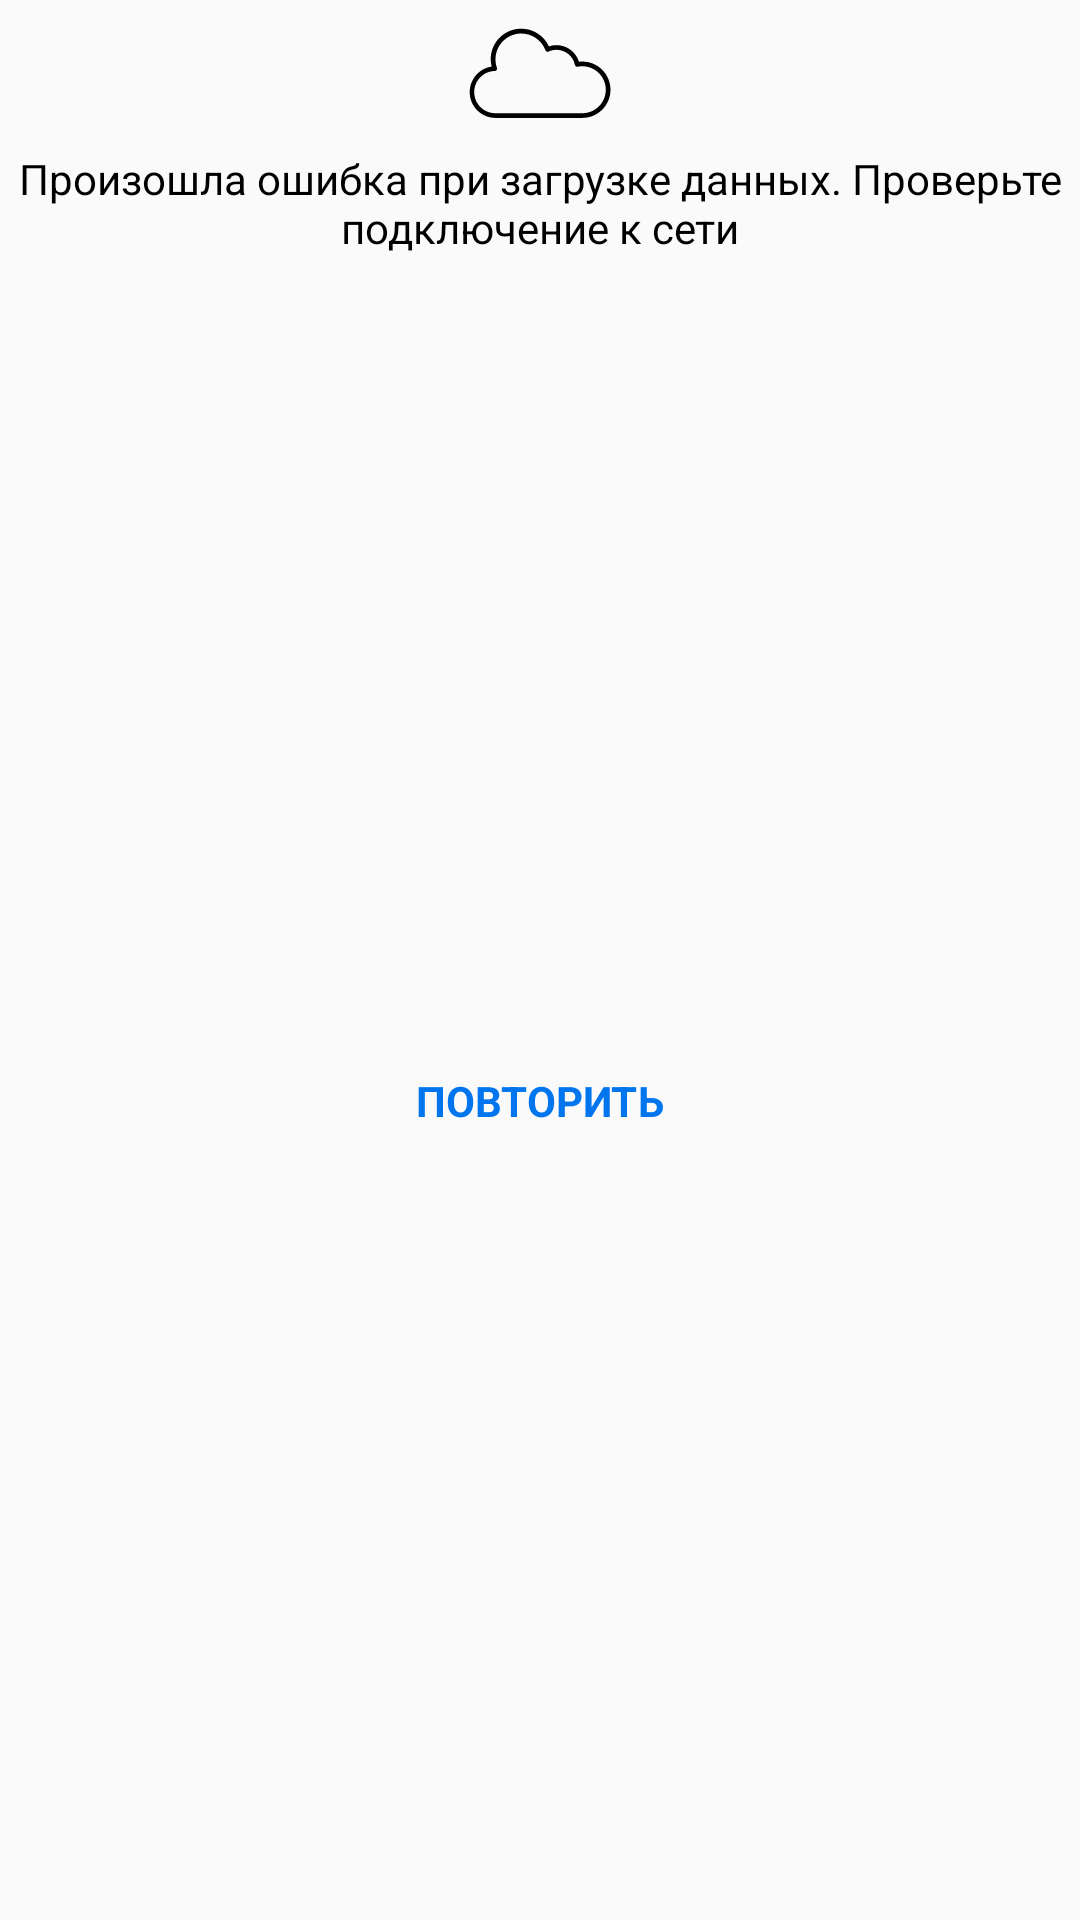

Icon bounding boxes for this 1080x1920 phone screenshot, format (x1,y1,x2,y2):
cloud: (469,28,611,118)
